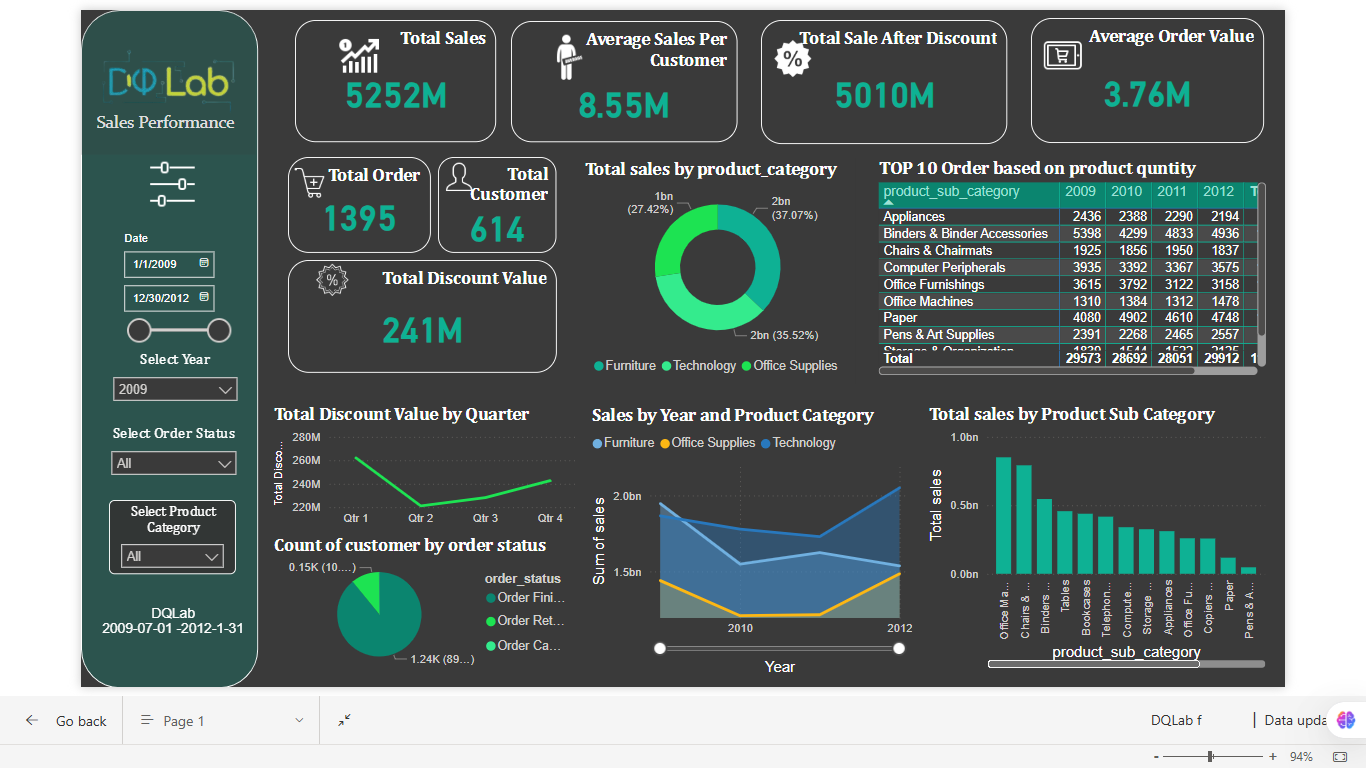

The page's visual inventory and layout, read from the dashboard file:
{"tool":"powerbi","page":{"name":"Page 1","canvas":[1280,720],"ordinal":0},"visuals":[{"type":"card","title":"Total Sales","fields":{"Values":["DQLab_sales.Total sales"]},"box":[227.9,10,214,130.4],"z":0,"group":"g1"},{"type":"card","title":"Total Order","fields":{"Values":["DQLab_sales.Total Orders"]},"box":[220.7,156.9,151.7,101.7],"z":0},{"type":"shape","box":[0,0,188.5,721.4],"z":1000},{"type":"card","title":"Total Customer","fields":{"Values":["DQLab_sales.Total Customers"]},"box":[379.3,156.9,125.9,101.7],"z":2000},{"type":"card","title":"Average Order Value","fields":{"Values":["DQLab_sales.Average Order Value"]},"box":[1010.4,8.2,248,133.2],"z":3000,"group":"g1"},{"type":"slicer","fields":{"Values":["Calendar.Date"]},"box":[32.6,231,134.6,126.1],"z":3000},{"type":"card","title":"Average Sales Per Customer","fields":{"Values":["DQLab_sales.Avg Sales per Customer"]},"box":[457.5,11.3,240.8,129],"z":4000,"group":"g1"},{"type":"slicer","title":"Select Order Status","fields":{"Values":["DQLab_sales.order_status"]},"box":[22.7,440.8,153.1,60.9],"z":4000},{"type":"textbox","box":[0,101.8,175,39.3],"z":5000},{"type":"clusteredColumnChart","title":"Total sales by Product Sub Category","fields":{"Category":["DQLab_sales.product_sub_category"],"Y":["DQLab_sales.Total sales"]},"box":[896.7,418.3,368.3,286.7],"z":6000},{"type":"donutChart","fields":{"Y":["DQLab_sales.Total sales"],"Category":["DQLab_sales.product_category"]},"box":[531.2,157.6,293,239.9],"z":7000},{"type":"slicer","title":"Select Year","fields":{"Values":["Calendar.Year"]},"box":[24.1,361.4,151.7,80.8],"z":8000},{"type":"areaChart","title":"Sales by Year and Product Category","fields":{"Category":["Calendar.Year"],"Series":["DQLab_sales.product_category"],"Y":["Sum(DQLab_sales.sales)"]},"box":[538.6,419.5,351.5,292],"z":9000},{"type":"pivotTable","title":"TOP 10 Order  based on product quntity ","fields":{"Rows":["DQLab_sales.product_sub_category"],"Columns":["Calendar.Year"],"Values":["Sum(DQLab_sales.order_quantity)"]},"box":[843.3,156.7,421.7,236.7],"z":10000},{"type":"slicer","title":"Select Product Category","fields":{"Values":["DQLab_sales.product_category"]},"box":[29.8,521.6,134.6,79.4],"z":11000},{"type":"card","title":"Total Discount Value","fields":{"Values":["DQLab_sales.Total Discount Value"]},"box":[219.7,266.5,286.3,120.5],"z":12000},{"type":"lineChart","fields":{"Category":["Calendar.Date.Variation.Date Hierarchy.Year","Calendar.Date.Variation.Date Hierarchy.Quarter","Calendar.Date.Variation.Date Hierarchy.Month","Calendar.Date.Variation.Date Hierarchy.Day"],"Y":["DQLab_sales.Total Discount Value"]},"box":[199.8,418.1,331.7,138.9],"z":13000},{"type":"image","box":[0,0,185.7,153.6],"z":14000},{"type":"textbox","box":[10,628.3,176.7,46.7],"z":15000},{"type":"card","title":"Total Sale After Discount","fields":{"Values":["DQLab_sales.Total Sales After Discount"]},"box":[724.1,9.9,262.3,131.9],"z":16000,"group":"g1"},{"type":"pieChart","title":"Count of customer by order status","fields":{"Category":["DQLab_sales.order_status"],"Y":["CountNonNull(DQLab_sales.customer)"]},"box":[199.8,557,331.7,148.8],"z":16000},{"type":"image","box":[232.4,259.4,70.9,55.3],"z":17000},{"type":"image","box":[379.3,155.2,44.8,44.8],"z":18000},{"type":"image","box":[220.7,162.1,46.6,43.1],"z":19000},{"type":"group","id":"g1","title":"Group 1","box":[227.9,8.2,1030.5,133.6],"z":20000},{"type":"image","box":[249.4,19.8,93.5,56.7],"z":21000},{"type":"image","box":[481.9,21.3,75.1,58.1],"z":22000},{"type":"image","box":[1007.7,21.3,73.7,53.9],"z":23000},{"type":"image","box":[55.3,154.5,83.6,62.4],"z":23001},{"type":"image","box":[729.6,19.9,55.3,62.4],"z":24004,"group":"g1"}]}

Visuals, with their boxes on the page's 1280x720 design canvas (x1, y1, x2, y2). These are canvas units, not pixel positions in the 1366x768 screenshot, which may show the page scaled, cropped or inside an application window:
"Total Sales" card: <bbox>228, 10, 442, 140</bbox>
"Total Order" card: <bbox>221, 157, 372, 259</bbox>
shape: <bbox>0, 0, 188, 721</bbox>
"Total Customer" card: <bbox>379, 157, 505, 259</bbox>
"Average Order Value" card: <bbox>1010, 8, 1258, 141</bbox>
slicer - Calendar.Date: <bbox>33, 231, 167, 357</bbox>
"Average Sales Per Customer" card: <bbox>458, 11, 698, 140</bbox>
"Select Order Status" slicer: <bbox>23, 441, 176, 502</bbox>
textbox: <bbox>0, 102, 175, 141</bbox>
"Total sales by Product Sub Category" clusteredColumnChart: <bbox>897, 418, 1265, 705</bbox>
donutChart - DQLab_sales.Total sales x DQLab_sales.product_category: <bbox>531, 158, 824, 398</bbox>
"Select Year" slicer: <bbox>24, 361, 176, 442</bbox>
"Sales by Year and Product Category" areaChart: <bbox>539, 420, 890, 712</bbox>
"TOP 10 Order  based on product quntity " pivotTable: <bbox>843, 157, 1265, 393</bbox>
"Select Product Category" slicer: <bbox>30, 522, 164, 601</bbox>
"Total Discount Value" card: <bbox>220, 266, 506, 387</bbox>
lineChart - Calendar.Date.Variation.Date Hierarchy.Year x Calendar.Date.Variation.Date Hierarchy.Quarter: <bbox>200, 418, 532, 557</bbox>
image: <bbox>0, 0, 186, 154</bbox>
textbox: <bbox>10, 628, 187, 675</bbox>
"Total Sale After Discount" card: <bbox>724, 10, 986, 142</bbox>
"Count of customer by order status" pieChart: <bbox>200, 557, 532, 706</bbox>
image: <bbox>232, 259, 303, 315</bbox>
image: <bbox>379, 155, 424, 200</bbox>
image: <bbox>221, 162, 267, 205</bbox>
"Group 1" group: <bbox>228, 8, 1258, 142</bbox>
image: <bbox>249, 20, 343, 76</bbox>
image: <bbox>482, 21, 557, 79</bbox>
image: <bbox>1008, 21, 1081, 75</bbox>
image: <bbox>55, 154, 139, 217</bbox>
image: <bbox>730, 20, 785, 82</bbox>
